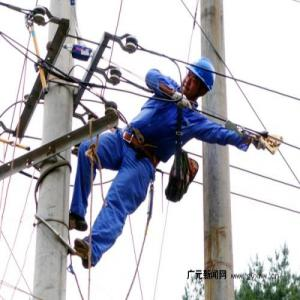blue: (181, 55, 219, 103)
